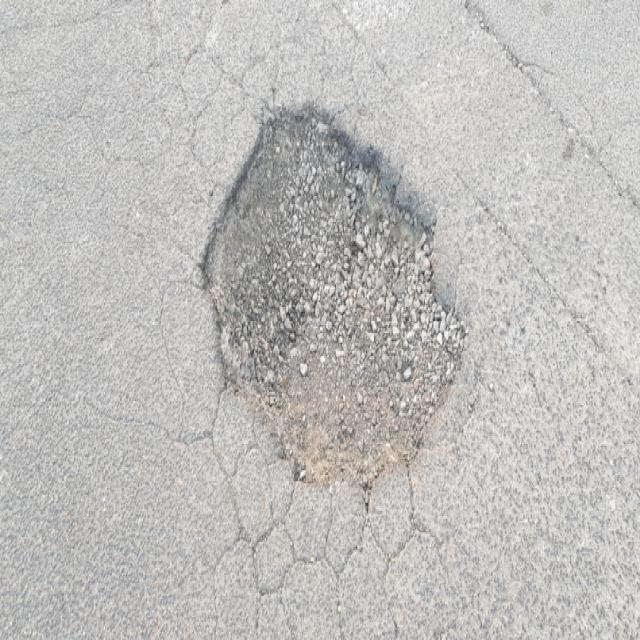pothole: (195, 90, 468, 500)
